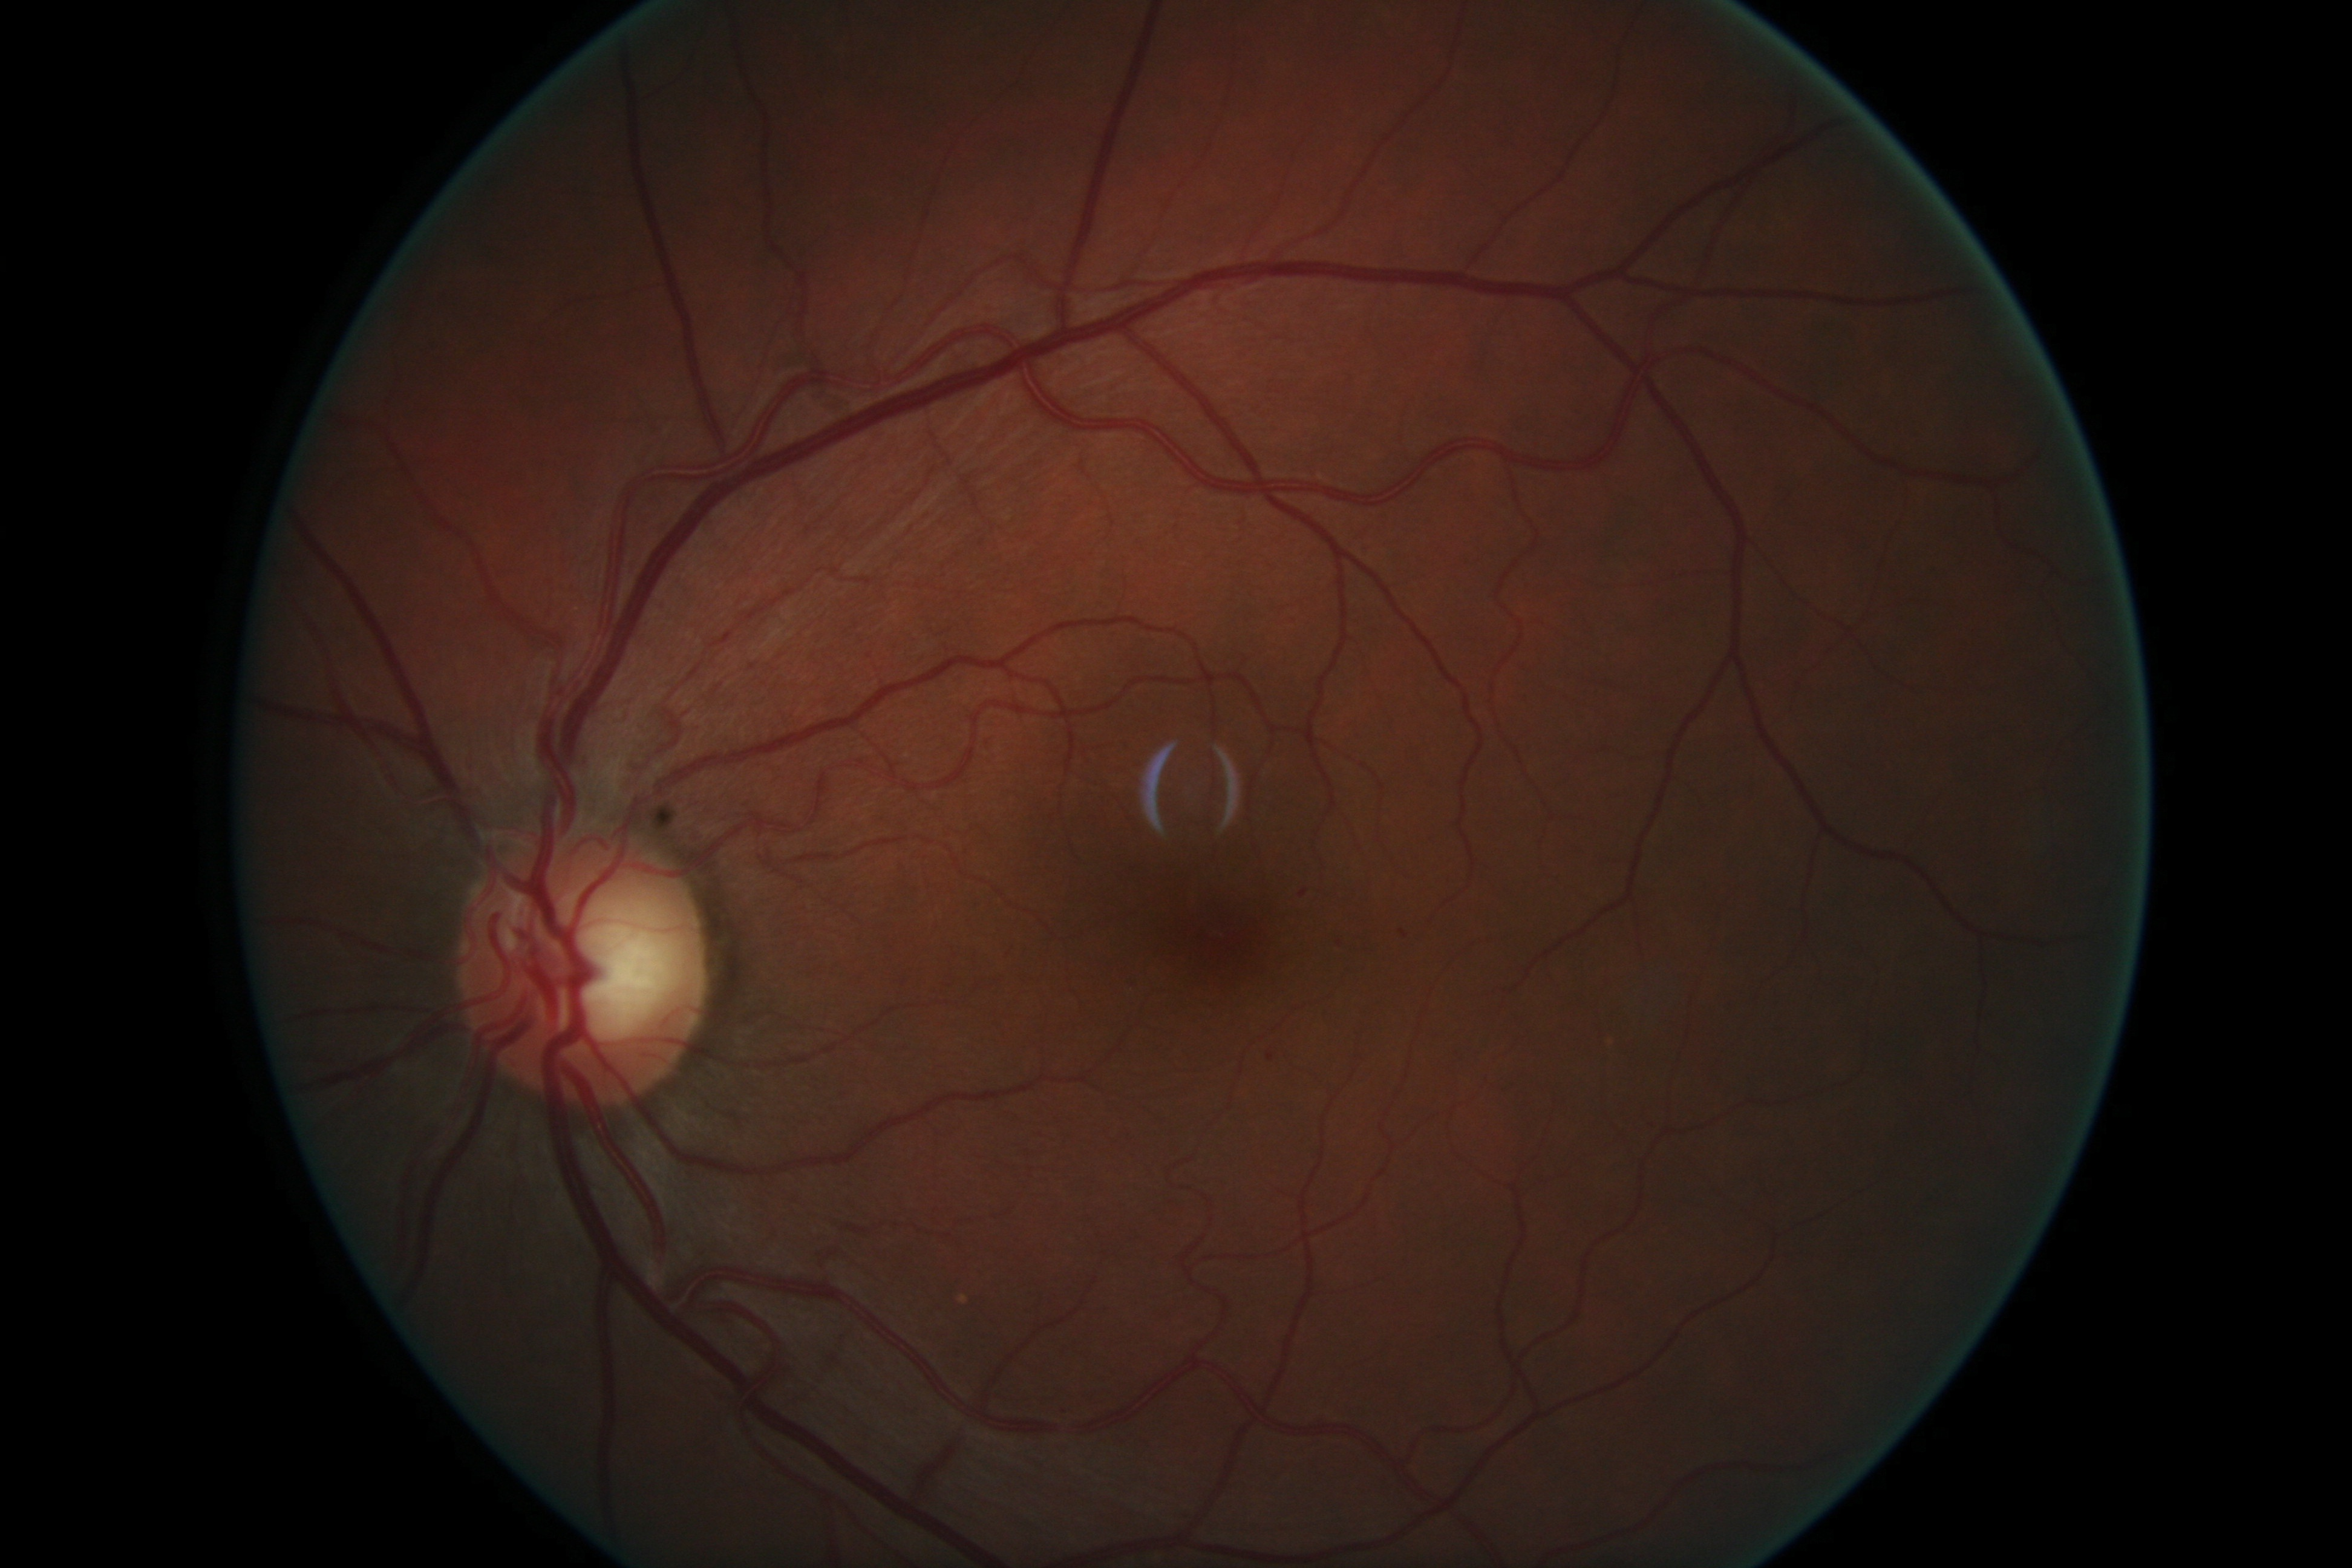Fovea: (1116, 859, 1309, 1036)
OD: (446, 800, 724, 1120)
